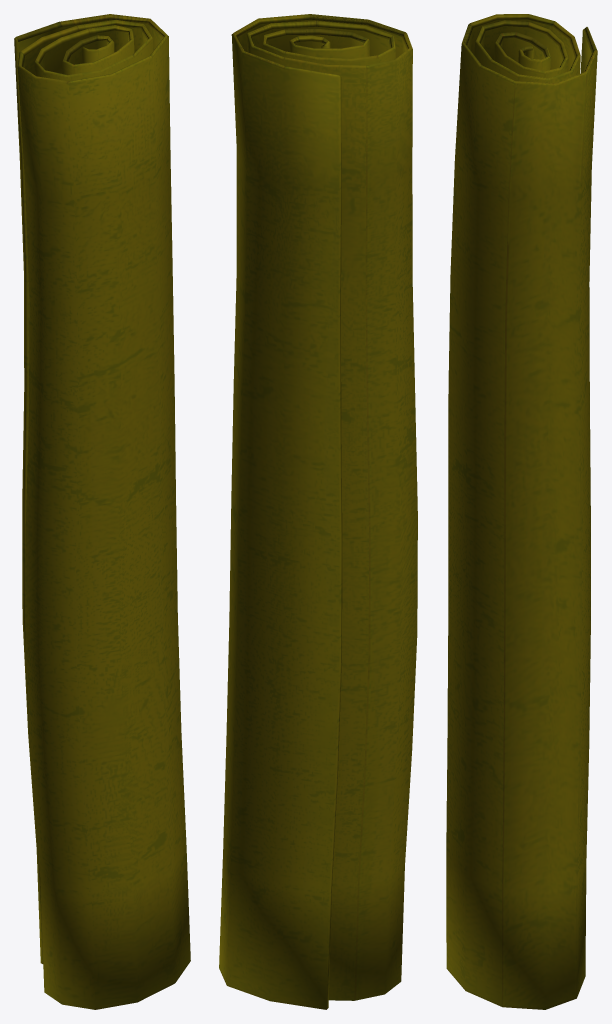
Rendered from Enchanted Metal Paper.fbx.
The picture shows the model from 3 angles, left to right: view 1: azimuth 30°, elevation 25°; view 2: azimuth 150°, elevation 25°; view 3: azimuth 270°, elevation 25°; orthographic projection. The views are drawn at different scales.
Visible parts, largest first — view 1: EnchantedMetalPaper; view 2: EnchantedMetalPaper; view 3: EnchantedMetalPaper.
Boxes of the visible parts, x1,y1,x2,y2 form: EnchantedMetalPaper: [14, 14, 190, 1009]; EnchantedMetalPaper: [219, 14, 417, 1009]; EnchantedMetalPaper: [446, 14, 597, 1009].
Bounding box in the file's own units: 16.77 × 89.59 × 13.38.
